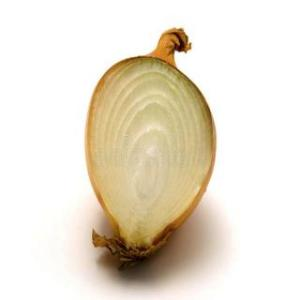onion: (84, 25, 221, 272)
